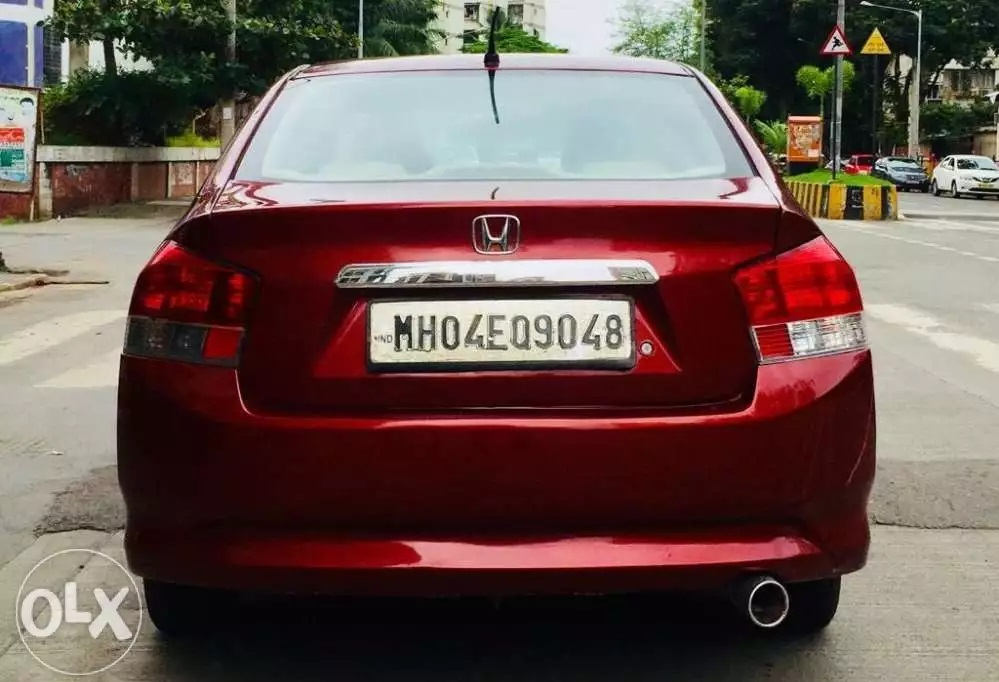licenseplate: (368, 299, 637, 367)
